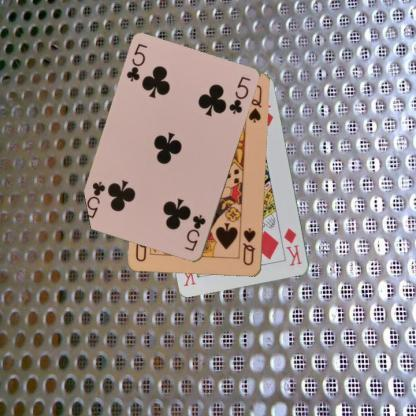5c: (180, 212, 208, 252), (124, 41, 149, 83)
Kd: (282, 225, 304, 268)
Qs: (240, 225, 257, 267)
